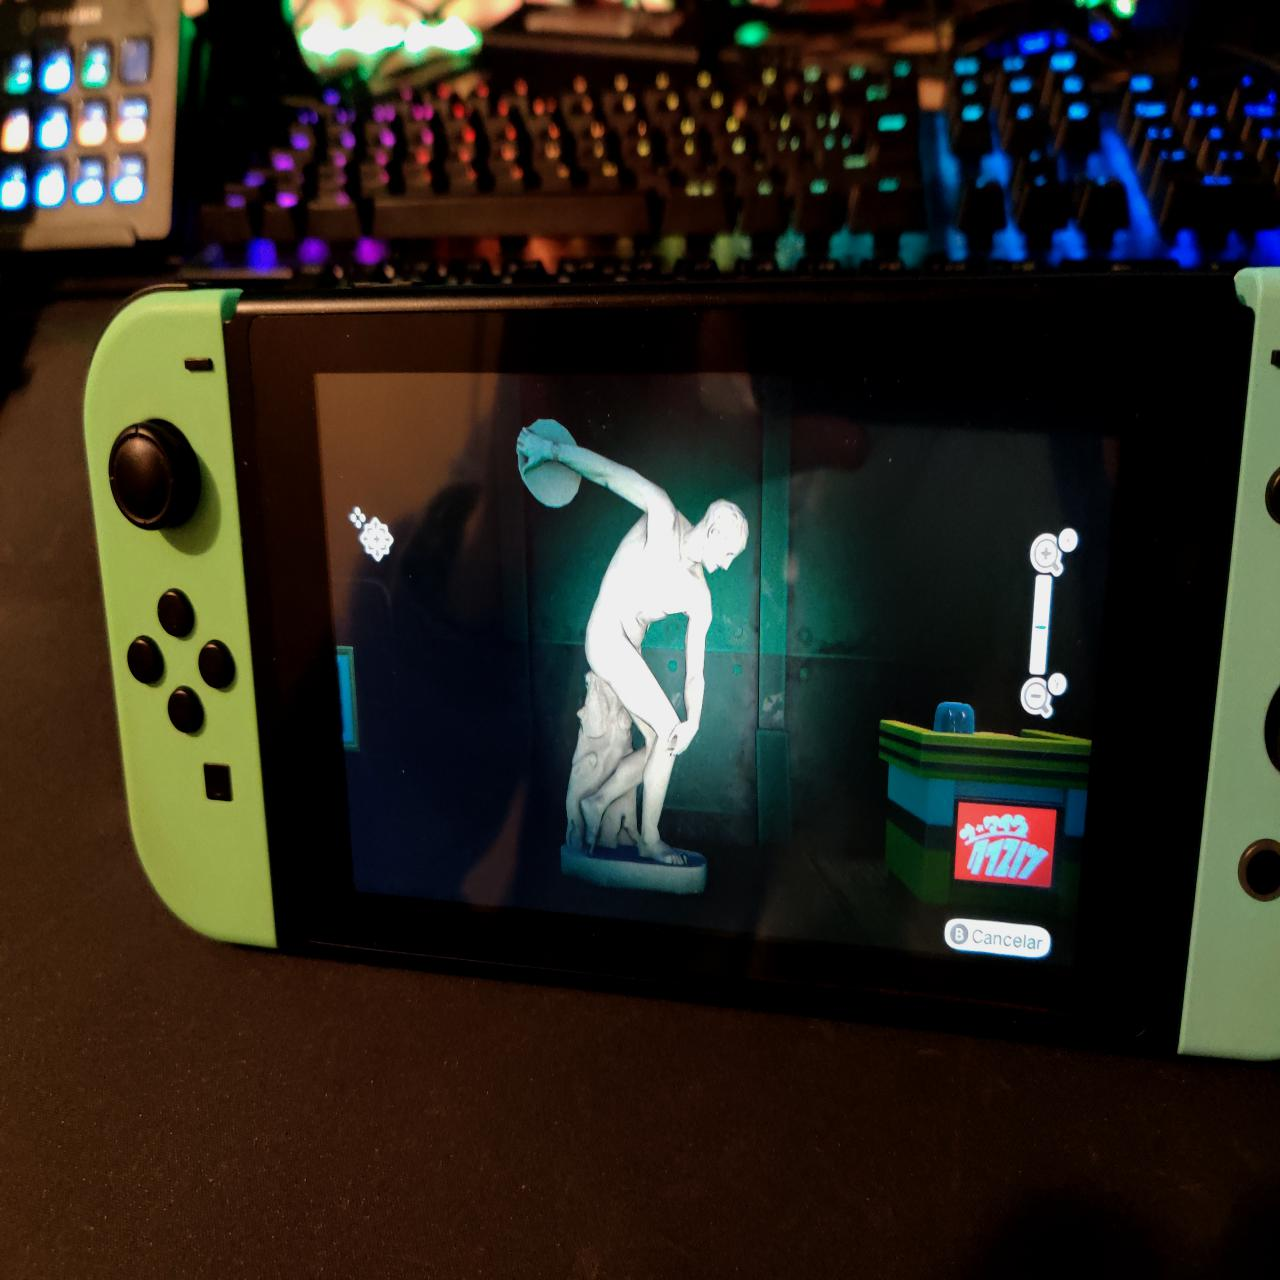DiskobolosFake: (516, 411, 753, 871)
